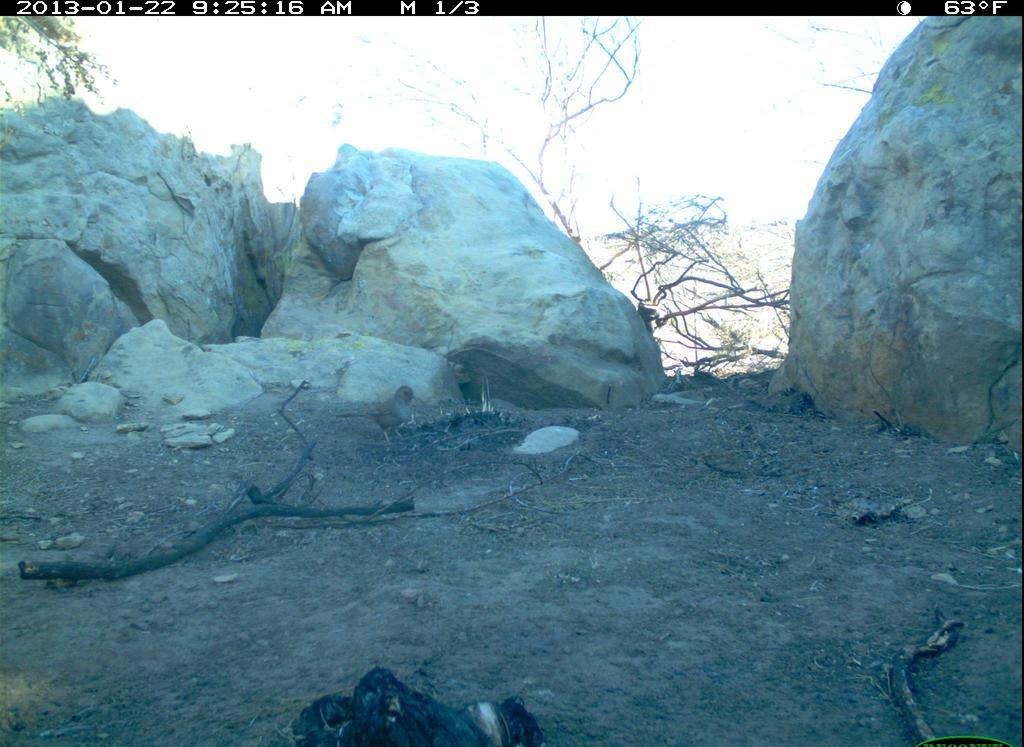bird: (348, 377, 426, 457)
